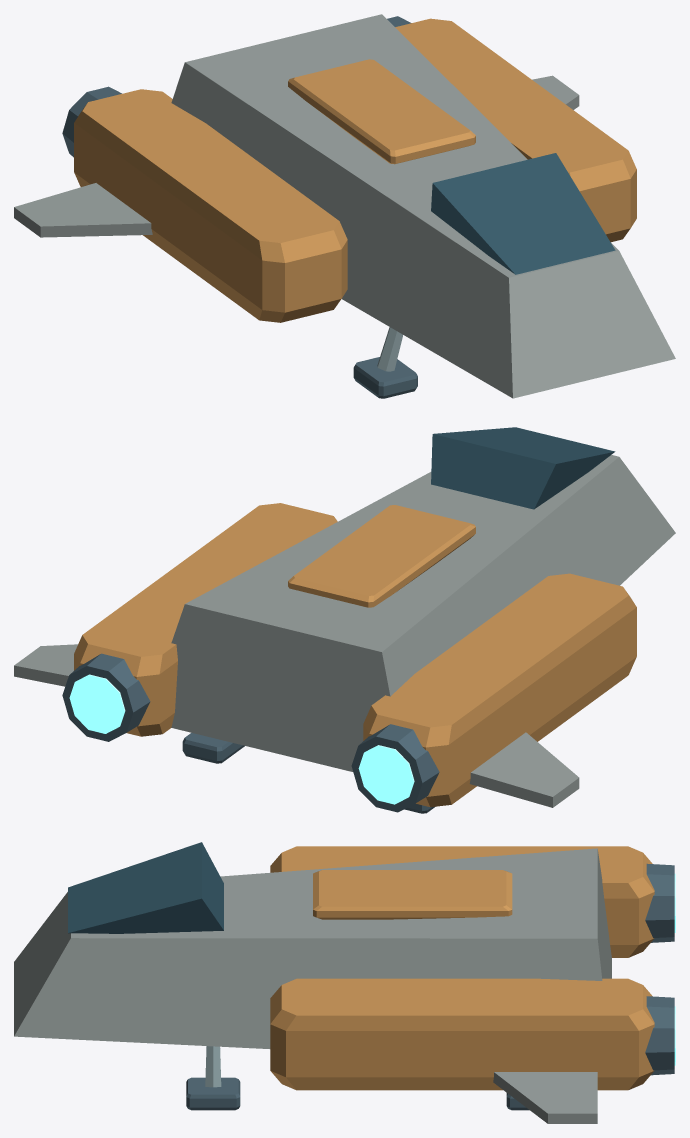
File: SM_COM_SHIP_000_Nomad.glb
3 views of the same model, one above another, from view 1: azimuth 30°, elevation 25°; view 2: azimuth 150°, elevation 25°; view 3: azimuth 270°, elevation 25° (orthographic). The views are drawn at different scales.
Visible parts, largest first — view 1: SM_COM_SHIP_000_Nomad; view 2: SM_COM_SHIP_000_Nomad; view 3: SM_COM_SHIP_000_Nomad.
Part boxes in pixels (box(x1,y1,x2,y2)): SM_COM_SHIP_000_Nomad: box(14, 14, 675, 398); SM_COM_SHIP_000_Nomad: box(14, 427, 675, 813); SM_COM_SHIP_000_Nomad: box(14, 842, 675, 1123).
Size of the model in its own units: 4.1 by 1.43 by 4.65.
